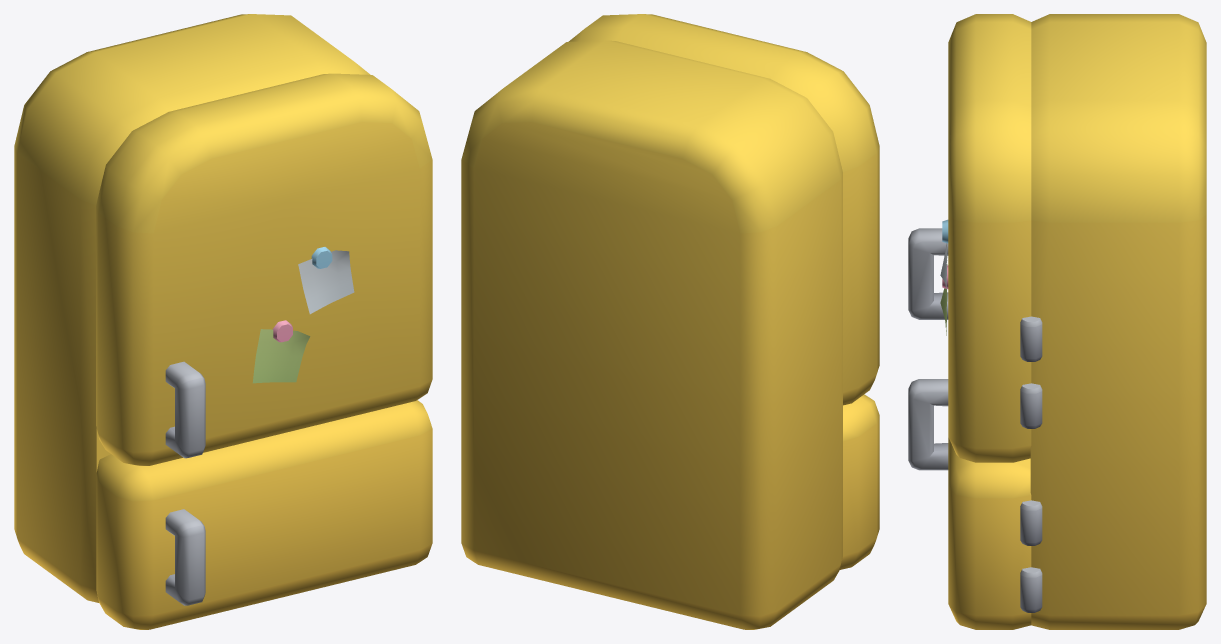
Rendered from Fridge.glb.
The picture shows the model from 3 angles, left to right: view 1: azimuth 30°, elevation 25°; view 2: azimuth 150°, elevation 25°; view 3: azimuth 270°, elevation 25°; orthographic projection. The views are drawn at different scales.
Parts seen in each view (by area): view 1: fridge_door_top, fridge, fridge_door_bottom; view 2: fridge, fridge_door_top, fridge_door_bottom; view 3: fridge, fridge_door_top, fridge_door_bottom.
Part boxes in pixels (box(x1,y1,x2,y2)): fridge_door_top: box(96, 73, 432, 465); fridge: box(14, 14, 370, 602); fridge_door_bottom: box(96, 400, 432, 629); fridge: box(461, 40, 842, 629); fridge_door_top: box(569, 14, 879, 405); fridge_door_bottom: box(840, 394, 879, 569); fridge: box(1020, 14, 1206, 629); fridge_door_top: box(908, 14, 1031, 462); fridge_door_bottom: box(908, 379, 1031, 629).
Bounding box in the file's own units: 2.04 × 3 × 1.62.
Materials: 1 (1 with a texture image).
